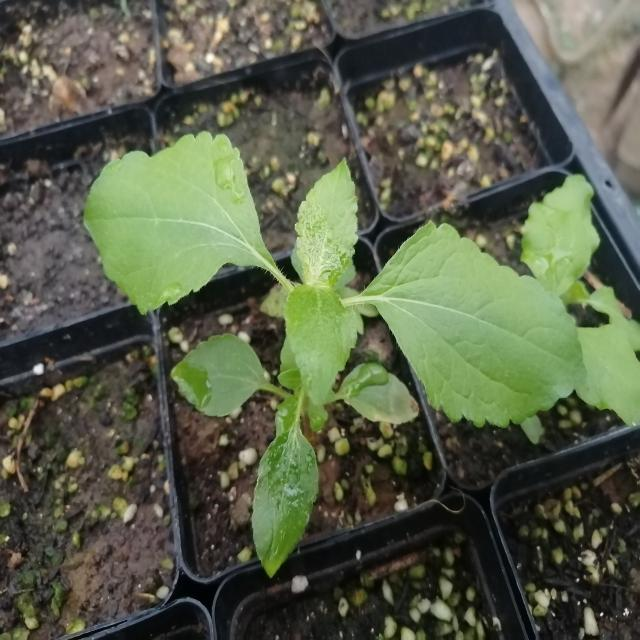billygoat_weed: (62, 118, 543, 480)
